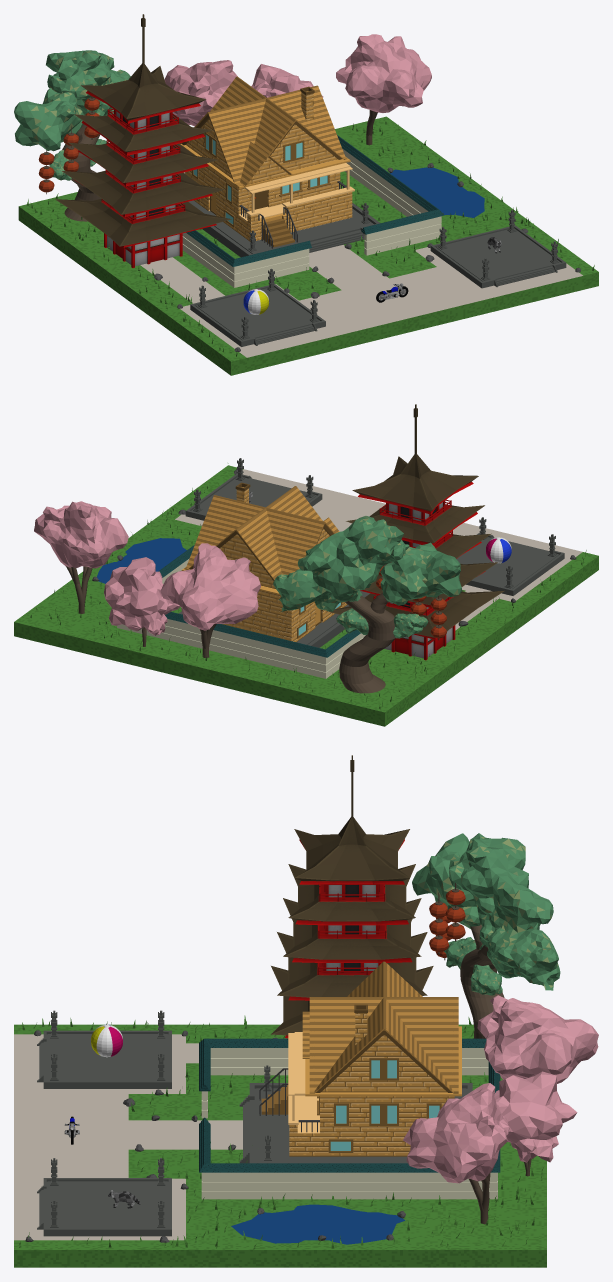
The picture shows the model from 3 angles, top to bottom: view 1: azimuth 30°, elevation 25°; view 2: azimuth 150°, elevation 25°; view 3: azimuth 270°, elevation 25°; orthographic projection. The views are drawn at different scales.
Visible parts, largest first — view 1: Cube.005, Cube.508, OBJRANDOM_BEACHBALL; view 2: Cube.005, Cube.508, OBJRANDOM_BEACHBALL; view 3: Cube.005, Cube.508, OBJRANDOM_BEACHBALL.
Boxes of the visible parts, x1=… form: Cube.005: x1=14, y1=14, x2=598, y2=375; Cube.508: x1=179, y1=76, x2=354, y2=248; OBJRANDOM_BEACHBALL: x1=243, y1=289, x2=268, y2=314; Cube.005: x1=14, y1=404, x2=598, y2=726; Cube.508: x1=181, y1=482, x2=347, y2=642; OBJRANDOM_BEACHBALL: x1=486, y1=537, x2=511, y2=563; Cube.005: x1=14, y1=755, x2=598, y2=1267; Cube.508: x1=259, y1=961, x2=461, y2=1156; OBJRANDOM_BEACHBALL: x1=91, y1=1024, x2=122, y2=1057.
Size of the model in its own units: 4528 by 2706 by 4389.
37 materials, 6 textured.
